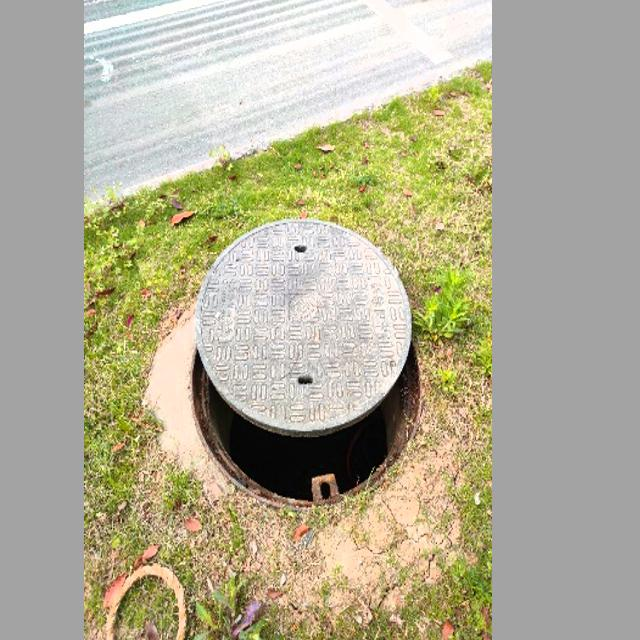uncovered: (194, 217, 423, 503)
